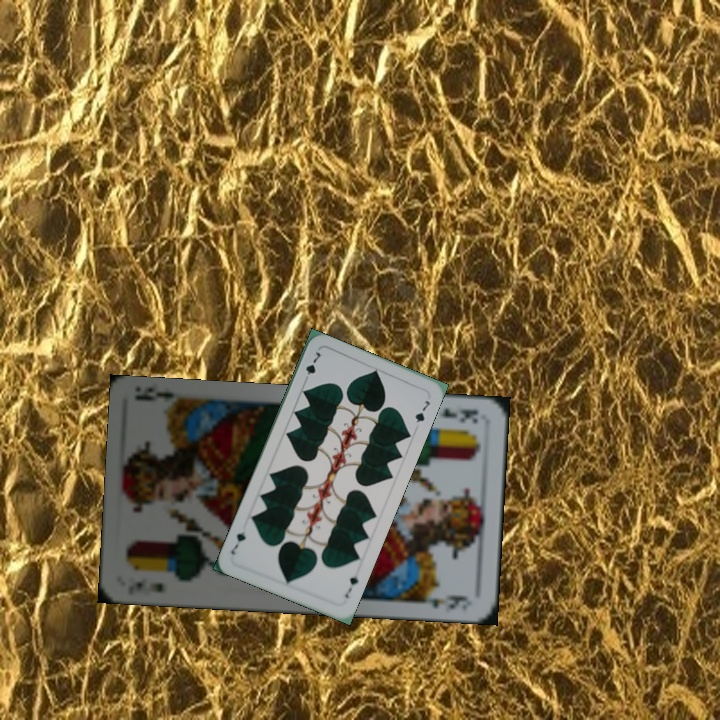EK: (434, 403, 481, 427), (124, 578, 167, 597)
G7: (299, 348, 324, 386), (341, 572, 361, 601)
